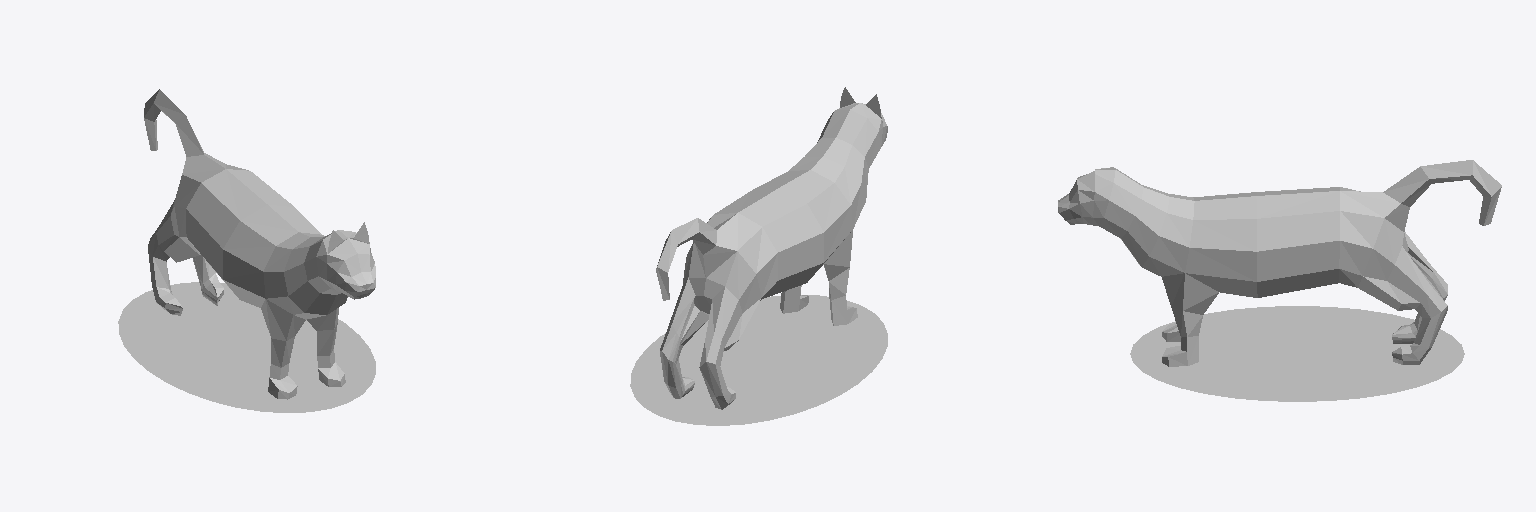
Rendered from shadow_cat.obj.
3 views of the same model, side by side, from view 1: azimuth 30°, elevation 25°; view 2: azimuth 150°, elevation 25°; view 3: azimuth 270°, elevation 25° (orthographic).
Parts seen in each view (by area): view 1: Cylinder; view 2: Cylinder; view 3: Cylinder.
Boxes of the visible parts, x1,y1,x2,y2 form: Cylinder: [118, 89, 375, 412]; Cylinder: [630, 87, 887, 425]; Cylinder: [1058, 160, 1501, 401].
Bounding box in the file's own units: 0.5196 × 0.4935 × 1.02.